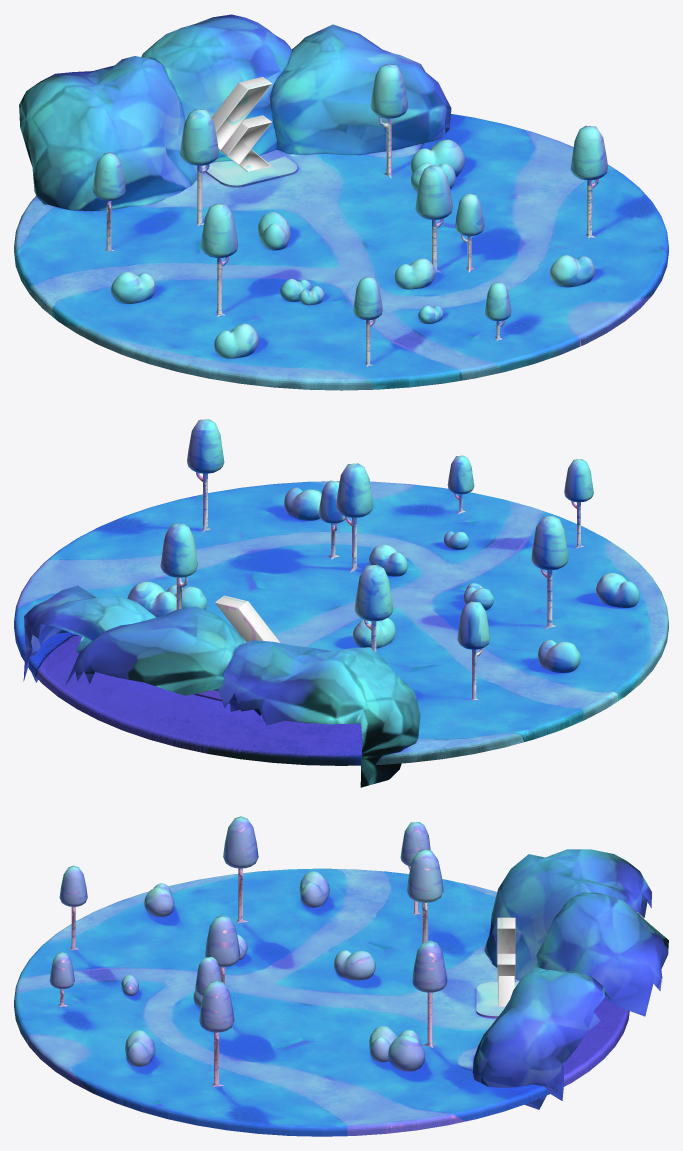
The model's file is ground.glb.
The picture shows the model from 3 angles, top to bottom: view 1: azimuth 30°, elevation 25°; view 2: azimuth 150°, elevation 25°; view 3: azimuth 270°, elevation 25°; orthographic projection. The views are drawn at different scales.
Visible parts, largest first — view 1: GroundBake.002; view 2: GroundBake.002; view 3: GroundBake.002.
Part boxes in pixels (x1,y1,x2,y2): GroundBake.002: (14, 14, 668, 390); GroundBake.002: (14, 419, 668, 787); GroundBake.002: (14, 816, 668, 1136).
Bounding box in the file's own units: 60 × 14.68 × 63.76.
3 materials, 3 textured.
